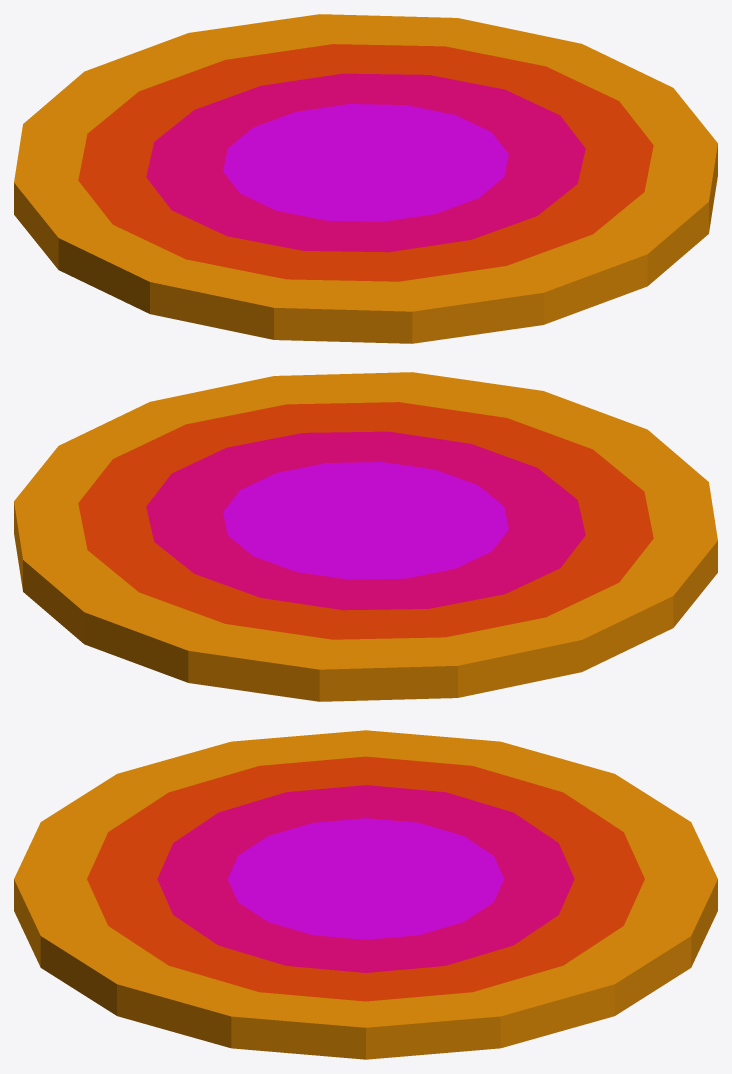
Rendered from drum collider.fbx.
3 renders of one model, top to bottom at view 1: azimuth 30°, elevation 25°; view 2: azimuth 150°, elevation 25°; view 3: azimuth 270°, elevation 25°, orthographic.
Visible parts, largest first — view 1: 1, 2, 3, 4; view 2: 1, 2, 3, 4; view 3: 1, 2, 3, 4.
Part boxes in pixels (bbox=[...]): 1: bbox=[14, 14, 717, 343]; 2: bbox=[78, 44, 653, 281]; 3: bbox=[146, 73, 585, 252]; 4: bbox=[223, 104, 508, 221]; 1: bbox=[14, 372, 717, 701]; 2: bbox=[78, 402, 653, 639]; 3: bbox=[146, 431, 585, 610]; 4: bbox=[223, 462, 508, 579]; 1: bbox=[14, 730, 717, 1059]; 2: bbox=[87, 756, 644, 1001]; 3: bbox=[157, 785, 574, 972]; 4: bbox=[228, 818, 503, 939].
Size of the model in its own units: 100 by 5 by 100.
